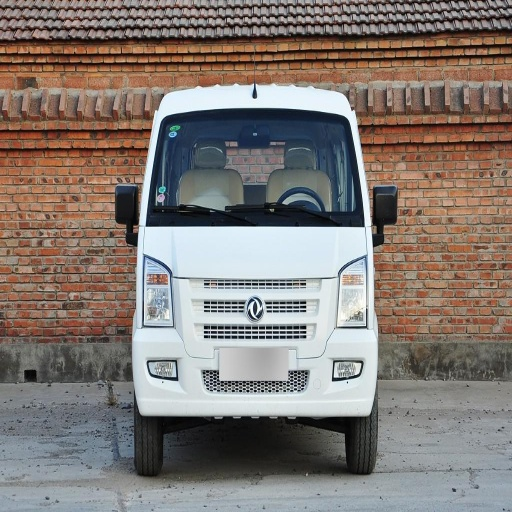front_bumper: (135, 275, 378, 414)
hood: (145, 227, 365, 283)
